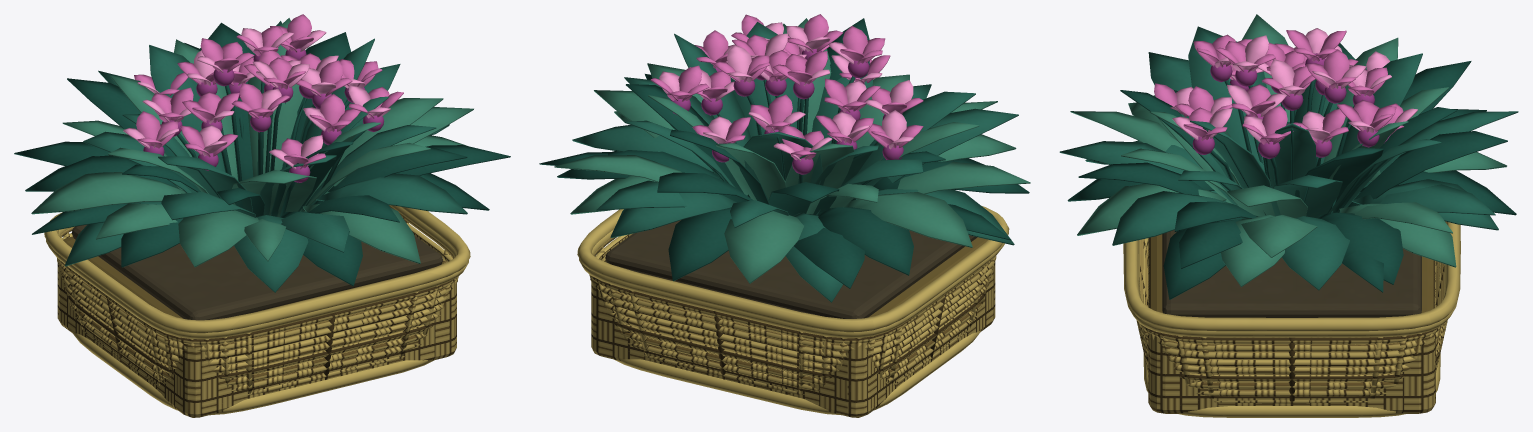
The model's file is 02_Flower_Basket.fbx.
3 views of the same model, side by side, from view 1: azimuth 30°, elevation 25°; view 2: azimuth 150°, elevation 25°; view 3: azimuth 270°, elevation 25° (orthographic). The views are drawn at different scales.
Visible parts, largest first — view 1: 02_Flower_Basket_Mesh; view 2: 02_Flower_Basket_Mesh; view 3: 02_Flower_Basket_Mesh.
Part boxes in pixels (x1,y1,x2,y2): 02_Flower_Basket_Mesh: [14, 14, 510, 417]; 02_Flower_Basket_Mesh: [539, 14, 1030, 417]; 02_Flower_Basket_Mesh: [1059, 14, 1518, 417].
Size of the model in its own units: 27.57 by 18.04 by 24.59.
Materials: 1 (1 with a texture image).
